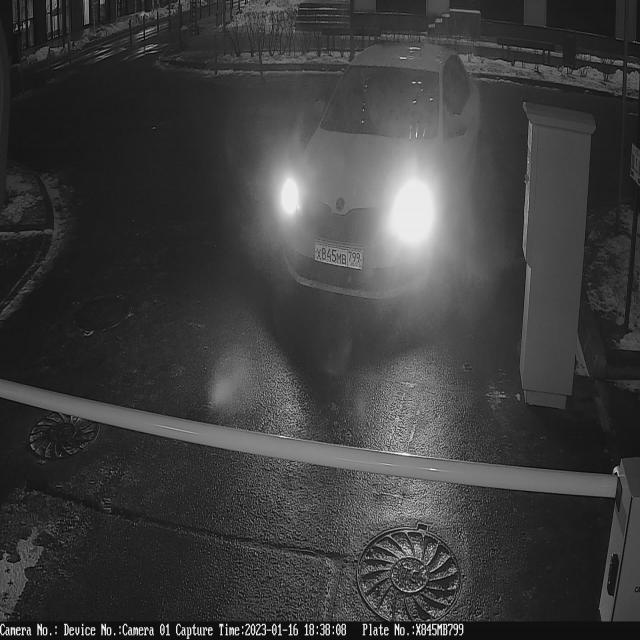car-plate-numbers: (313, 239, 367, 276)
